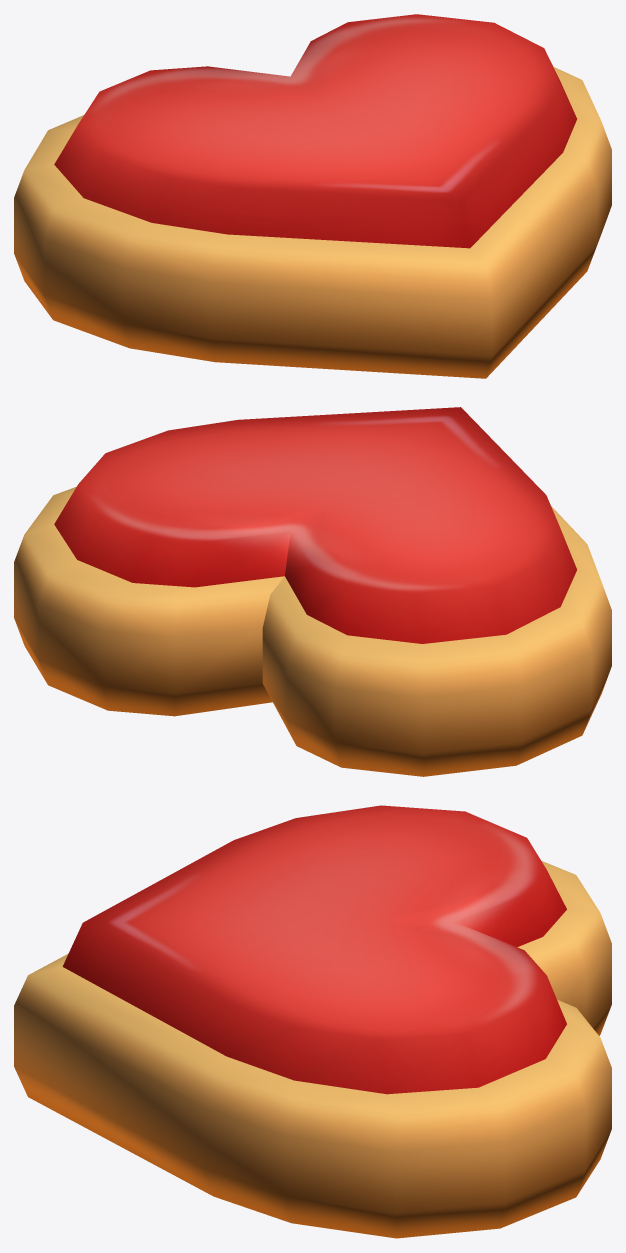
The model's file is 009-Cookies06.FBX.
3 renders of one model, top to bottom at view 1: azimuth 30°, elevation 25°; view 2: azimuth 150°, elevation 25°; view 3: azimuth 270°, elevation 25°, orthographic. The views are drawn at different scales.
Visible parts, largest first — view 1: 009-Cookies06; view 2: 009-Cookies06; view 3: 009-Cookies06.
Part boxes in pixels (box(x1,y1,x2,y2)): 009-Cookies06: box(14, 14, 611, 378); 009-Cookies06: box(14, 407, 611, 776); 009-Cookies06: box(14, 805, 611, 1238).
Bounding box in the file's own units: 12.34 × 3.43 × 10.66.
